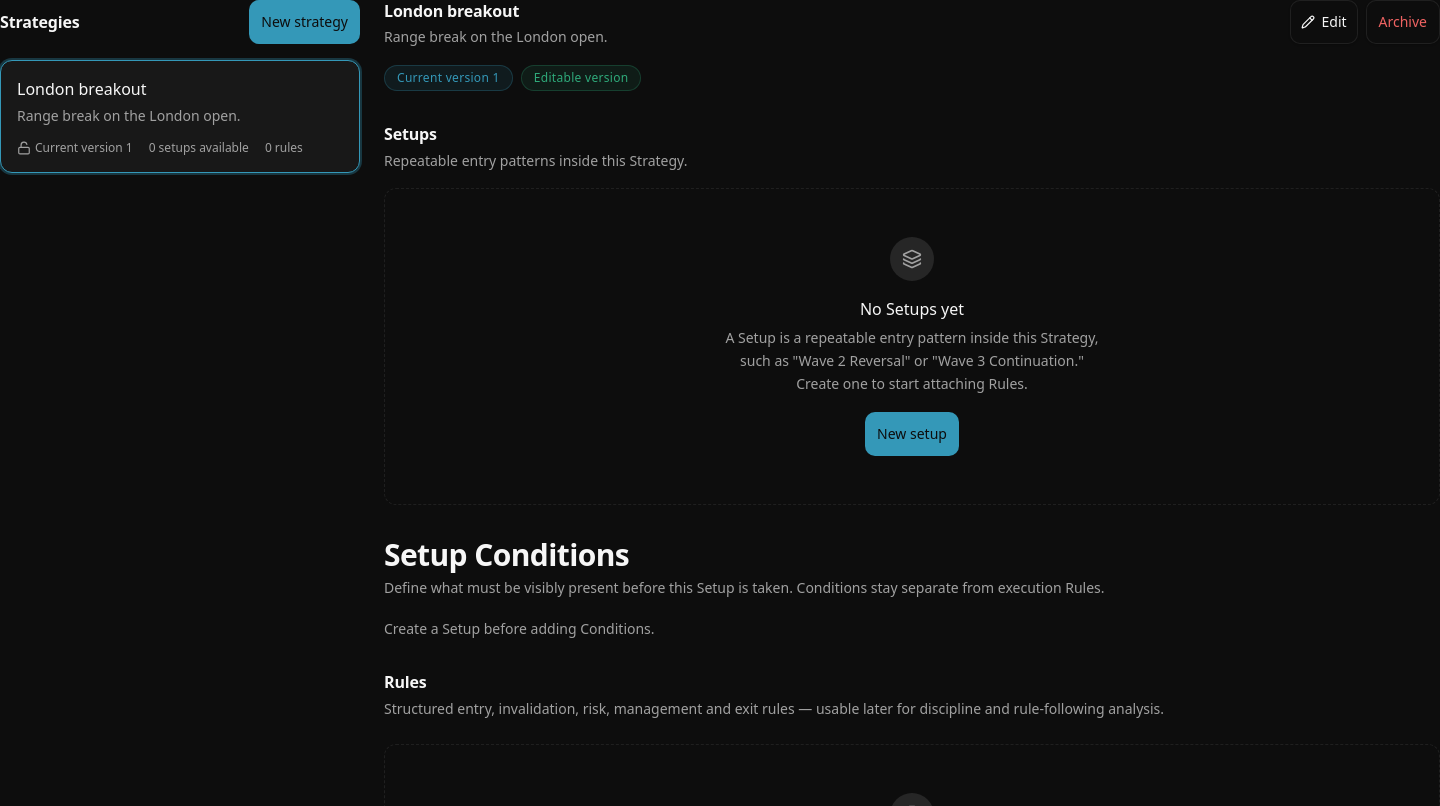
Test: StrategiesManager — Strategy detail › opening the Archive confirmation explains archive-not-delete without mentioning irreversible removal
Click the button "Archive" at (1403, 22), box [1366,0,1439,44]
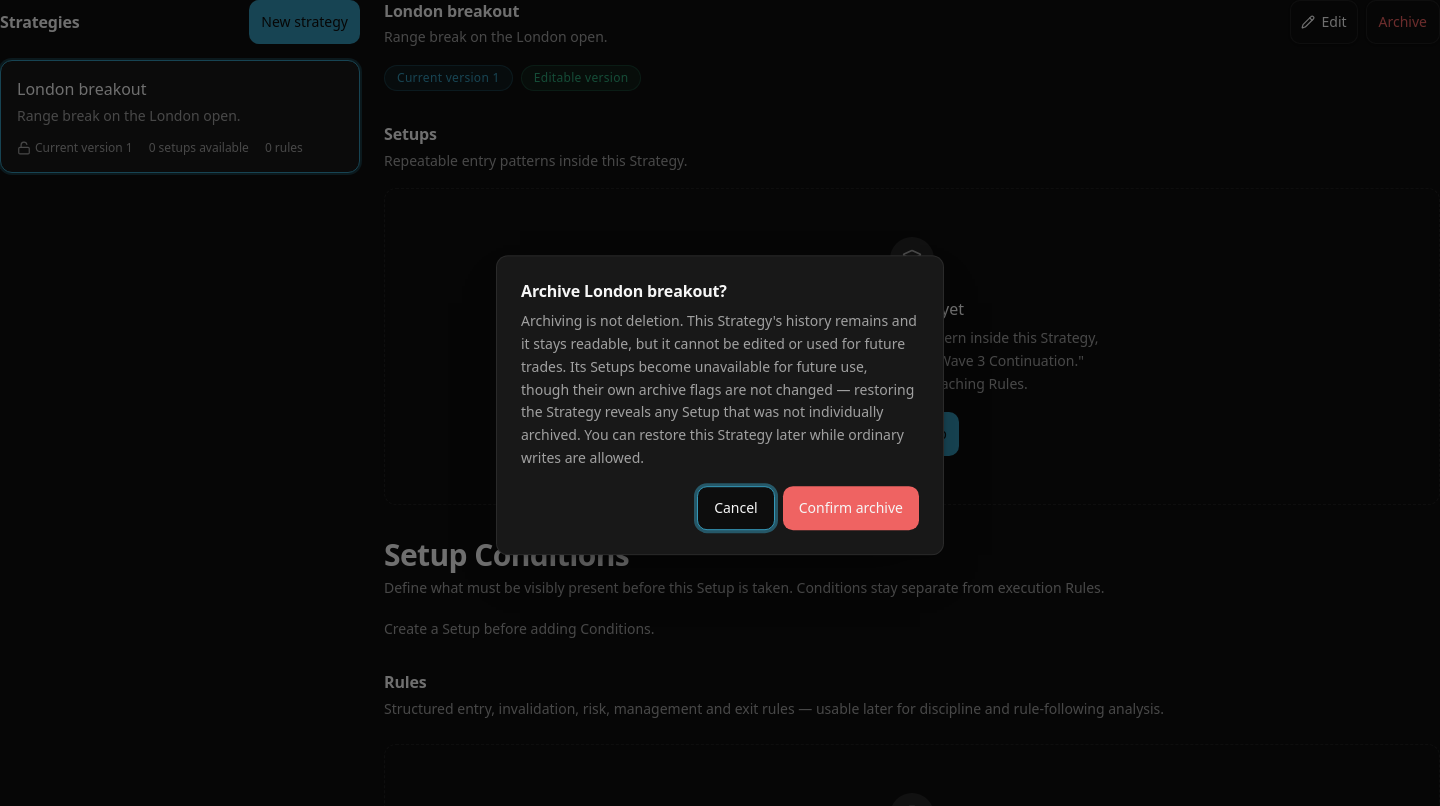
Now the text "Archiving is not deletion" is shown, box [521,312,917,467]
